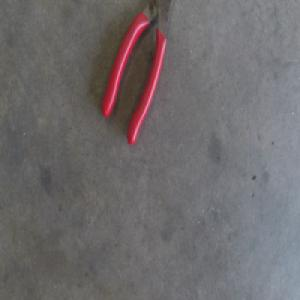Pliers: (101, 0, 172, 145)
